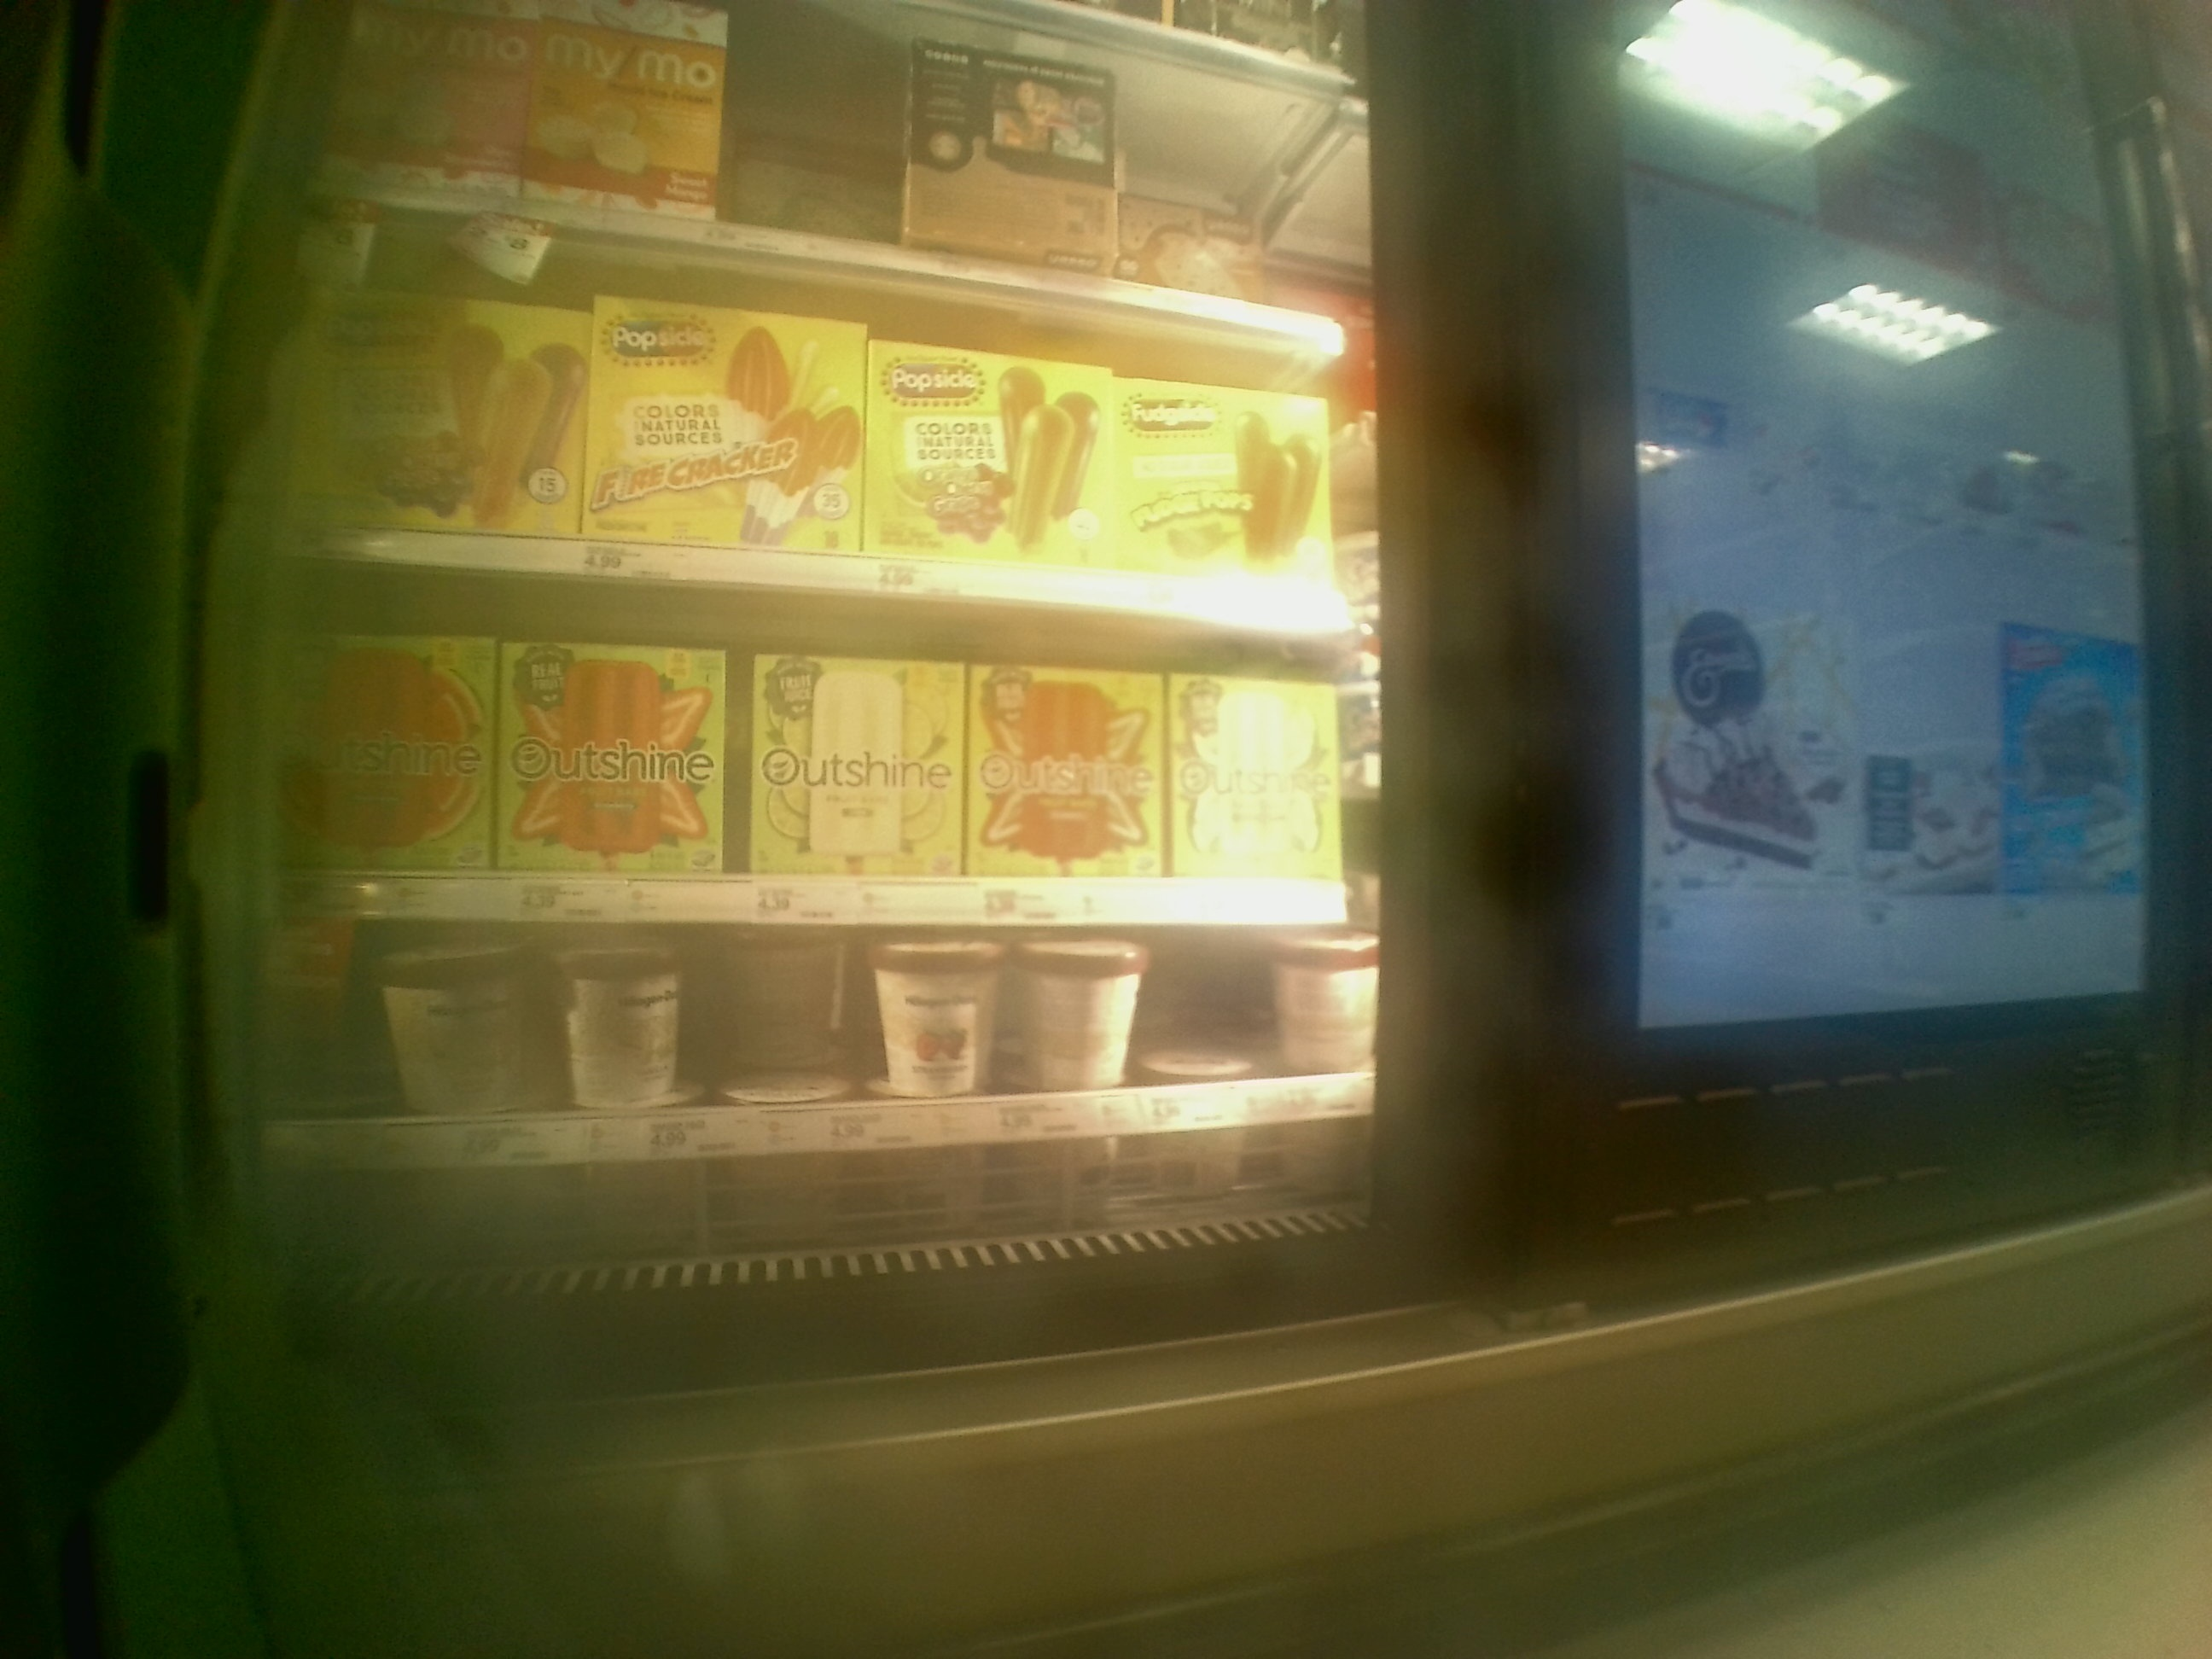shelf: (233, 633, 1367, 922), (225, 927, 1366, 1173)
